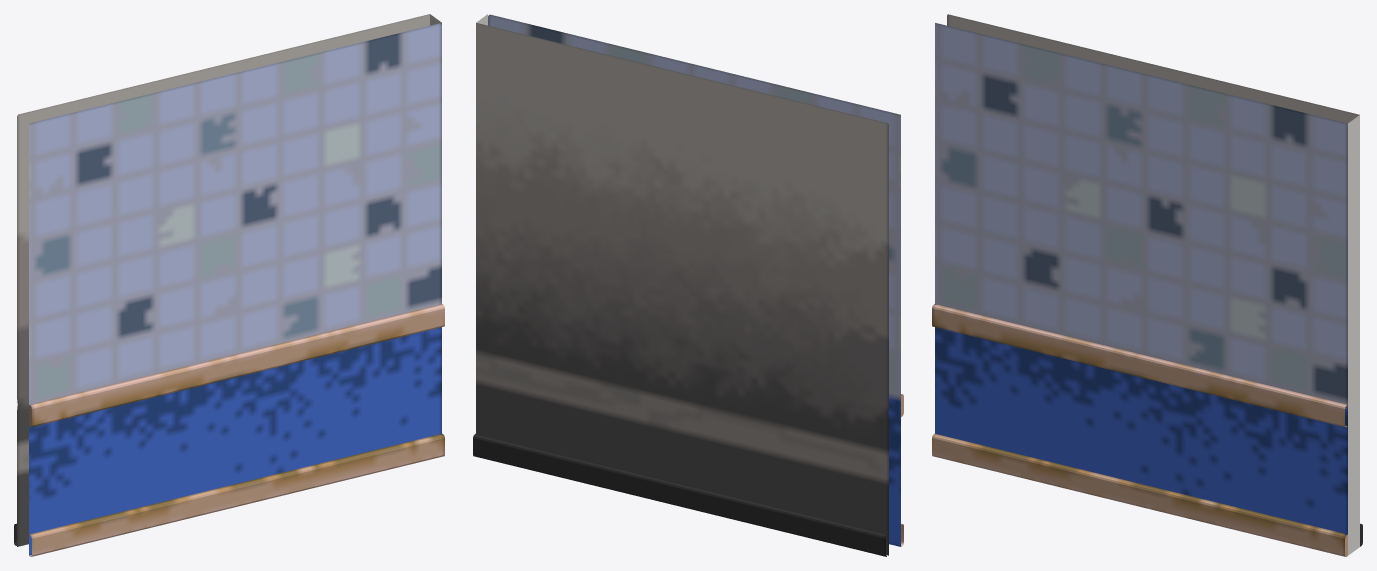
The model's file is Wall_TipoC_2.fbx.
The picture shows the model from 3 angles, left to right: view 1: azimuth 30°, elevation 25°; view 2: azimuth 150°, elevation 25°; view 3: azimuth 330°, elevation 25°; orthographic projection.
Parts seen in each view (by area): view 1: Cube.051, Cube.047, Cube.052; view 2: Cube.051, Cube.045; view 3: Cube.051, Cube.052, Cube.047.
Part boxes in pixels (bbox=[...]): Cube.051: bbox=[17, 14, 441, 555]; Cube.047: bbox=[29, 304, 444, 427]; Cube.052: bbox=[29, 433, 444, 556]; Cube.051: bbox=[476, 14, 900, 555]; Cube.045: bbox=[473, 433, 886, 556]; Cube.051: bbox=[935, 14, 1359, 555]; Cube.052: bbox=[932, 433, 1347, 556]; Cube.047: bbox=[932, 304, 1347, 427].
Size of the model in its own units: 400 by 400 by 29.95.
